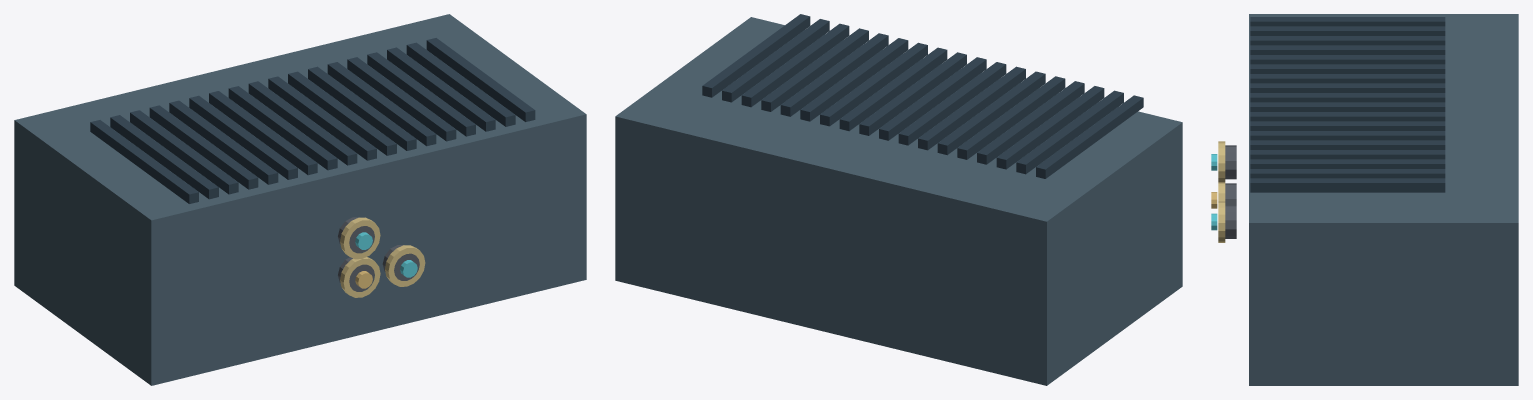
File: 50_L82_AnechoicBoundaryConditionMonitor.glb
3 views of the same model, side by side, from view 1: azimuth 30°, elevation 25°; view 2: azimuth 150°, elevation 25°; view 3: azimuth 270°, elevation 25° (orthographic).
Parts seen in each view (by area): view 1: AnechoicBoundaryConditionMonitor_Node_0000, AnechoicBoundaryConditionMonitor_Node_0005, AnechoicBoundaryConditionMonitor_Node_0008, AnechoicBoundaryConditionMonitor_Node_0013, AnechoicBoundaryConditionMonitor_Node_0014, AnechoicBoundaryConditionMonitor_Node_0018, AnechoicBoundaryConditionMonitor_Node_0004, AnechoicBoundaryConditionMonitor_Node_0009, AnechoicBoundaryConditionMonitor_Node_0017, AnechoicBoundaryConditionMonitor_Node_0003, AnechoicBoundaryConditionMonitor_Node_0010, AnechoicBoundaryConditionMonitor_Node_0011 (+10 smaller); view 2: AnechoicBoundaryConditionMonitor_Node_0000, AnechoicBoundaryConditionMonitor_Node_0006, AnechoicBoundaryConditionMonitor_Node_0016, AnechoicBoundaryConditionMonitor_Node_0014, AnechoicBoundaryConditionMonitor_Node_0018, AnechoicBoundaryConditionMonitor_Node_0008, AnechoicBoundaryConditionMonitor_Node_0013, AnechoicBoundaryConditionMonitor_Node_0003, AnechoicBoundaryConditionMonitor_Node_0011, AnechoicBoundaryConditionMonitor_Node_0005, AnechoicBoundaryConditionMonitor_Node_0001, AnechoicBoundaryConditionMonitor_Node_0004 (+7 smaller); view 3: AnechoicBoundaryConditionMonitor_Node_0000, AnechoicBoundaryConditionMonitor_Node_0018, AnechoicBoundaryConditionMonitor_Node_0002, AnechoicBoundaryConditionMonitor_Node_0004, AnechoicBoundaryConditionMonitor_Node_0006, AnechoicBoundaryConditionMonitor_Node_0008, AnechoicBoundaryConditionMonitor_Node_0010, AnechoicBoundaryConditionMonitor_Node_0012, AnechoicBoundaryConditionMonitor_Node_0014, AnechoicBoundaryConditionMonitor_Node_0016, AnechoicBoundaryConditionMonitor_Node_0001, AnechoicBoundaryConditionMonitor_Node_0003 (+11 smaller).
Boxes of the visible parts, left/top/right/bottom form: AnechoicBoundaryConditionMonitor_Node_0000: left=14, top=14, right=586, bottom=385; AnechoicBoundaryConditionMonitor_Node_0005: left=169, top=100, right=278, bottom=184; AnechoicBoundaryConditionMonitor_Node_0008: left=228, top=86, right=337, bottom=170; AnechoicBoundaryConditionMonitor_Node_0013: left=327, top=62, right=436, bottom=146; AnechoicBoundaryConditionMonitor_Node_0014: left=347, top=57, right=456, bottom=141; AnechoicBoundaryConditionMonitor_Node_0018: left=426, top=38, right=535, bottom=121; AnechoicBoundaryConditionMonitor_Node_0004: left=149, top=105, right=258, bottom=189; AnechoicBoundaryConditionMonitor_Node_0009: left=248, top=81, right=357, bottom=165; AnechoicBoundaryConditionMonitor_Node_0017: left=406, top=42, right=515, bottom=126; AnechoicBoundaryConditionMonitor_Node_0003: left=130, top=110, right=238, bottom=194; AnechoicBoundaryConditionMonitor_Node_0010: left=268, top=76, right=376, bottom=160; AnechoicBoundaryConditionMonitor_Node_0011: left=288, top=71, right=396, bottom=155; AnechoicBoundaryConditionMonitor_Node_0000: left=615, top=17, right=1182, bottom=385; AnechoicBoundaryConditionMonitor_Node_0006: left=937, top=71, right=1045, bottom=155; AnechoicBoundaryConditionMonitor_Node_0016: left=741, top=23, right=849, bottom=107; AnechoicBoundaryConditionMonitor_Node_0014: left=780, top=33, right=888, bottom=116; AnechoicBoundaryConditionMonitor_Node_0018: left=702, top=14, right=810, bottom=97; AnechoicBoundaryConditionMonitor_Node_0008: left=898, top=62, right=1006, bottom=145; AnechoicBoundaryConditionMonitor_Node_0013: left=800, top=38, right=908, bottom=121; AnechoicBoundaryConditionMonitor_Node_0003: left=996, top=86, right=1104, bottom=169; AnechoicBoundaryConditionMonitor_Node_0011: left=839, top=47, right=947, bottom=131; AnechoicBoundaryConditionMonitor_Node_0005: left=957, top=76, right=1065, bottom=159; AnechoicBoundaryConditionMonitor_Node_0001: left=1036, top=95, right=1143, bottom=178; AnechoicBoundaryConditionMonitor_Node_0004: left=977, top=81, right=1084, bottom=164; AnechoicBoundaryConditionMonitor_Node_0000: left=1249, top=14, right=1518, bottom=385; AnechoicBoundaryConditionMonitor_Node_0018: left=1250, top=178, right=1445, bottom=192; AnechoicBoundaryConditionMonitor_Node_0002: left=1250, top=26, right=1445, bottom=35; AnechoicBoundaryConditionMonitor_Node_0004: left=1250, top=45, right=1445, bottom=54; AnechoicBoundaryConditionMonitor_Node_0006: left=1250, top=64, right=1445, bottom=73; AnechoicBoundaryConditionMonitor_Node_0008: left=1250, top=83, right=1445, bottom=92; AnechoicBoundaryConditionMonitor_Node_0010: left=1250, top=102, right=1445, bottom=111; AnechoicBoundaryConditionMonitor_Node_0012: left=1250, top=121, right=1445, bottom=130; AnechoicBoundaryConditionMonitor_Node_0014: left=1250, top=140, right=1445, bottom=149; AnechoicBoundaryConditionMonitor_Node_0016: left=1250, top=159, right=1445, bottom=168; AnechoicBoundaryConditionMonitor_Node_0001: left=1250, top=17, right=1445, bottom=26; AnechoicBoundaryConditionMonitor_Node_0003: left=1250, top=36, right=1445, bottom=45.
Size of the model in its own units: 1.65 by 0.6575 by 1.02.
